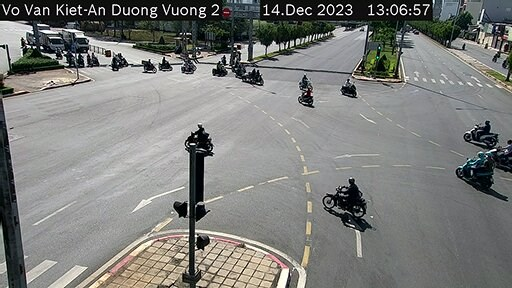motorbike: (322, 178, 365, 223), (464, 151, 495, 188), (468, 118, 499, 149), (499, 135, 512, 175), (342, 77, 362, 99), (294, 87, 315, 106), (250, 65, 268, 86), (298, 72, 314, 89), (214, 61, 226, 77)
truck: (62, 28, 88, 58), (40, 31, 63, 54)
